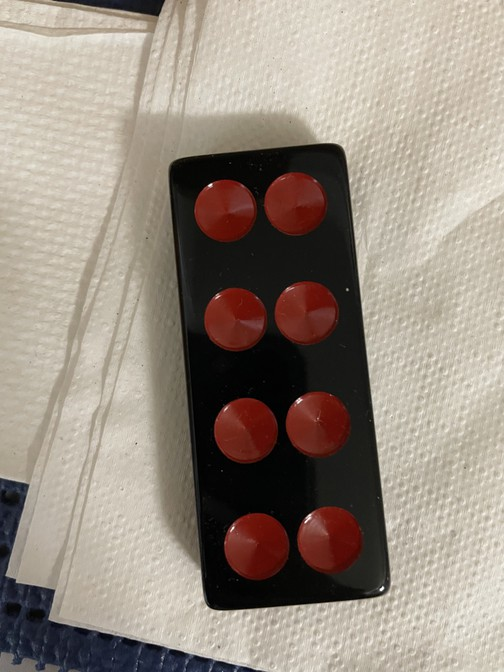man: (167, 145, 390, 610)
